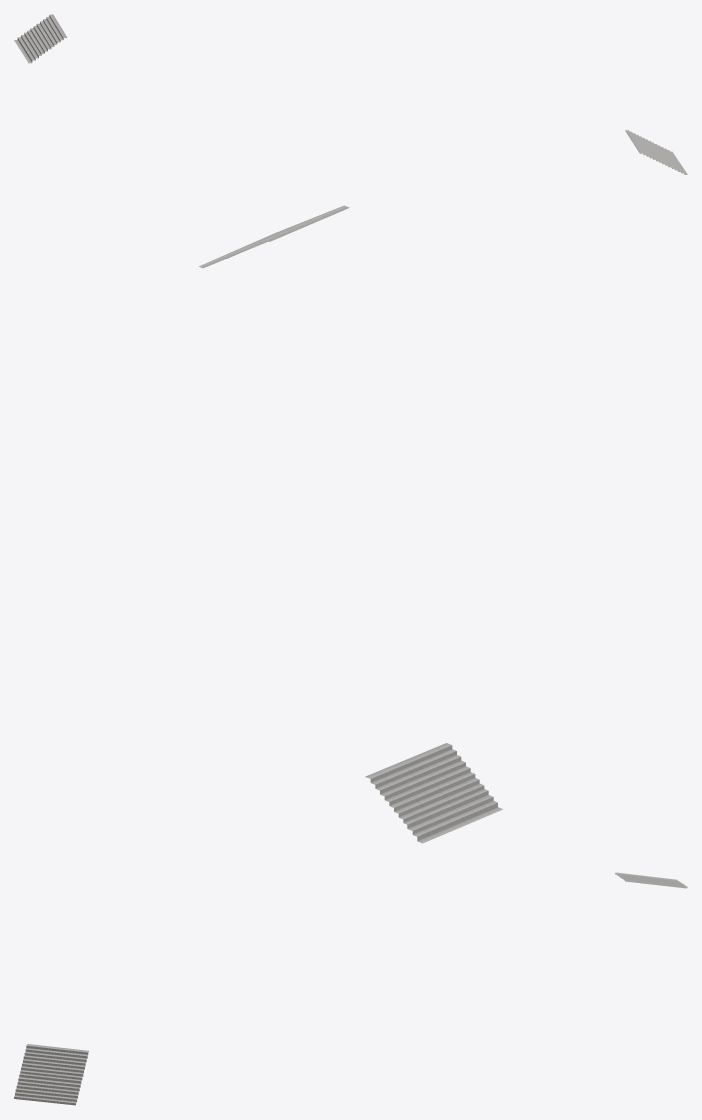
The model's file is kd_stage_1366d7_4_7.glb.
The picture shows the model from 3 angles, top to bottom: view 1: azimuth 30°, elevation 25°; view 2: azimuth 150°, elevation 25°; view 3: azimuth 270°, elevation 25°; orthographic projection. The views are drawn at different scales.
Visible parts, largest first — view 1: kd_stage_1366d7_4_7; view 2: kd_stage_1366d7_4_7; view 3: kd_stage_1366d7_4_7.
Boxes of the visible parts, <box> form: kd_stage_1366d7_4_7: <box>14,14,687,174</box>; kd_stage_1366d7_4_7: <box>199,205,502,843</box>; kd_stage_1366d7_4_7: <box>14,872,687,1105</box>.
Bounding box in the file's own units: 72.84 × 5 × 95.37.
1 material, 1 textured.
